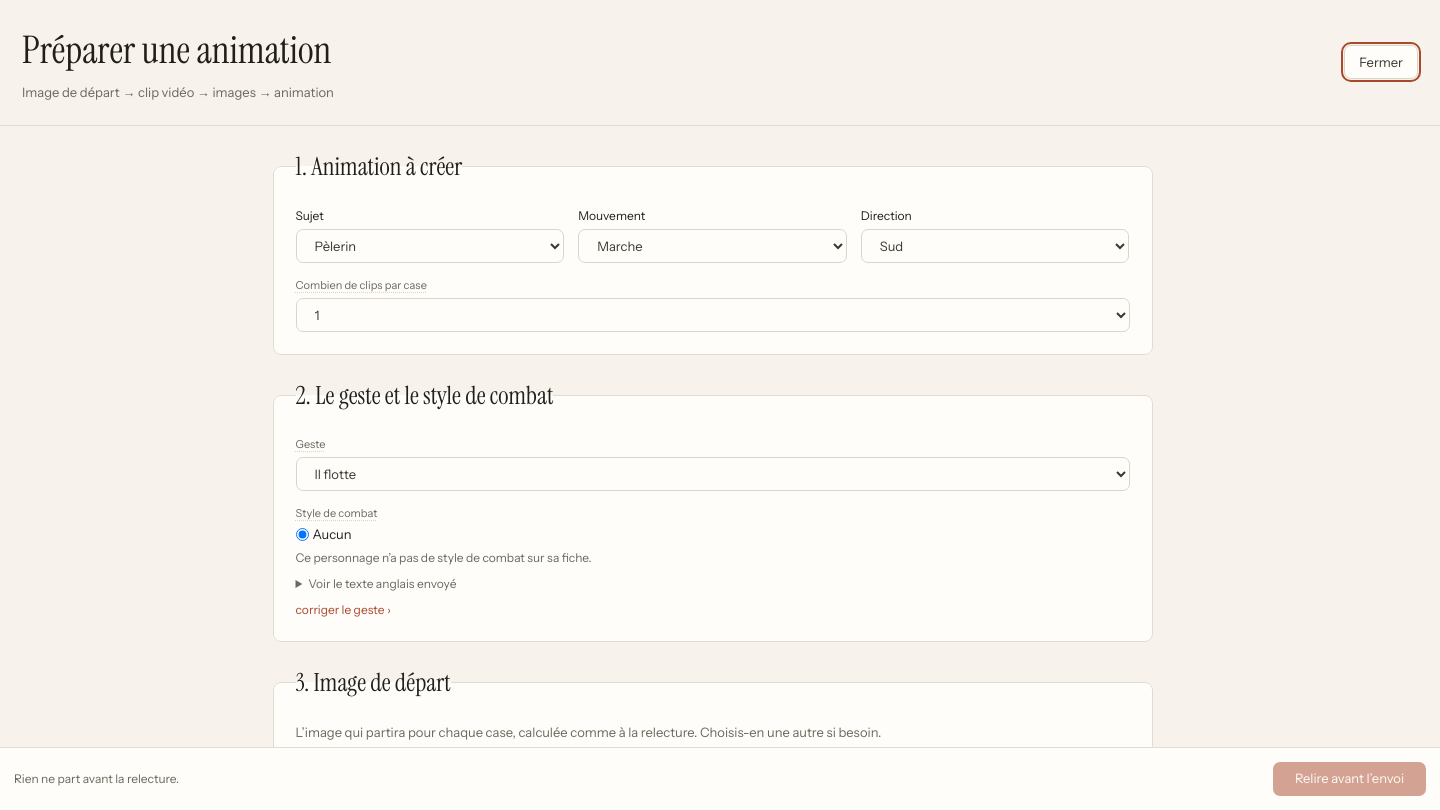
it: « corriger le geste » ouvre le champ déjà rempli du geste actuel, modifiable
Check: the dropdown labelled "Geste" shows "Il flotte", box [296,456,1130,490]
Click the button "corriger le geste ›" at (343, 610), box [296,600,391,618]
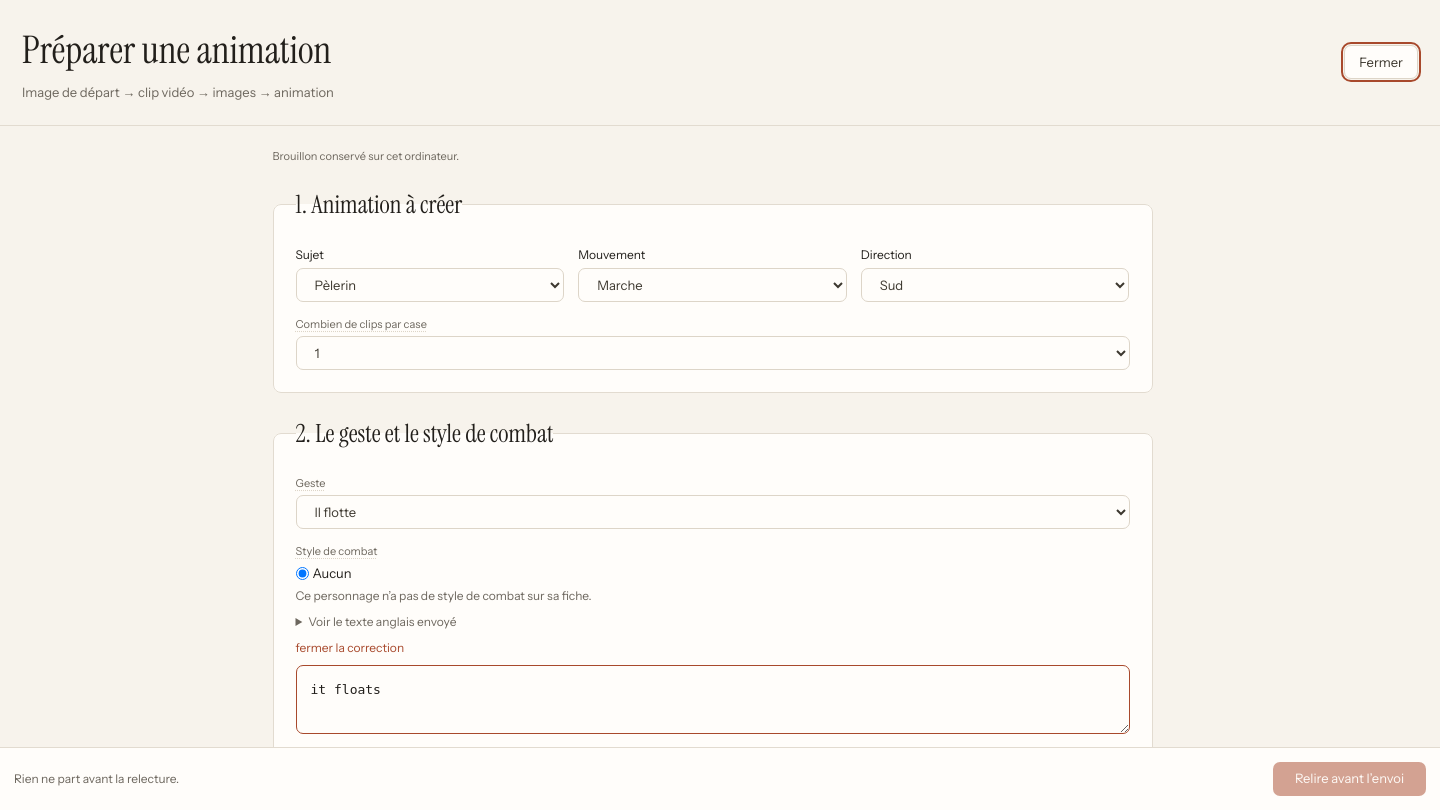
Check: the text box named "Corriger le geste pour cet appel" holds "it floats", box [296,665,1130,734]
